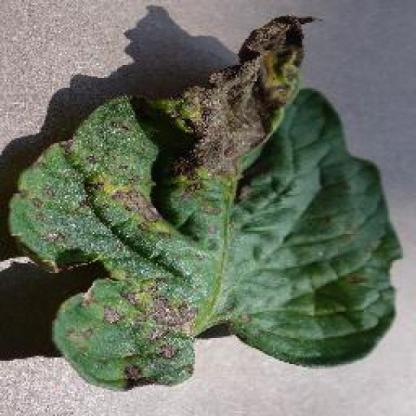Tomato_Blight: (8, 16, 402, 389)
